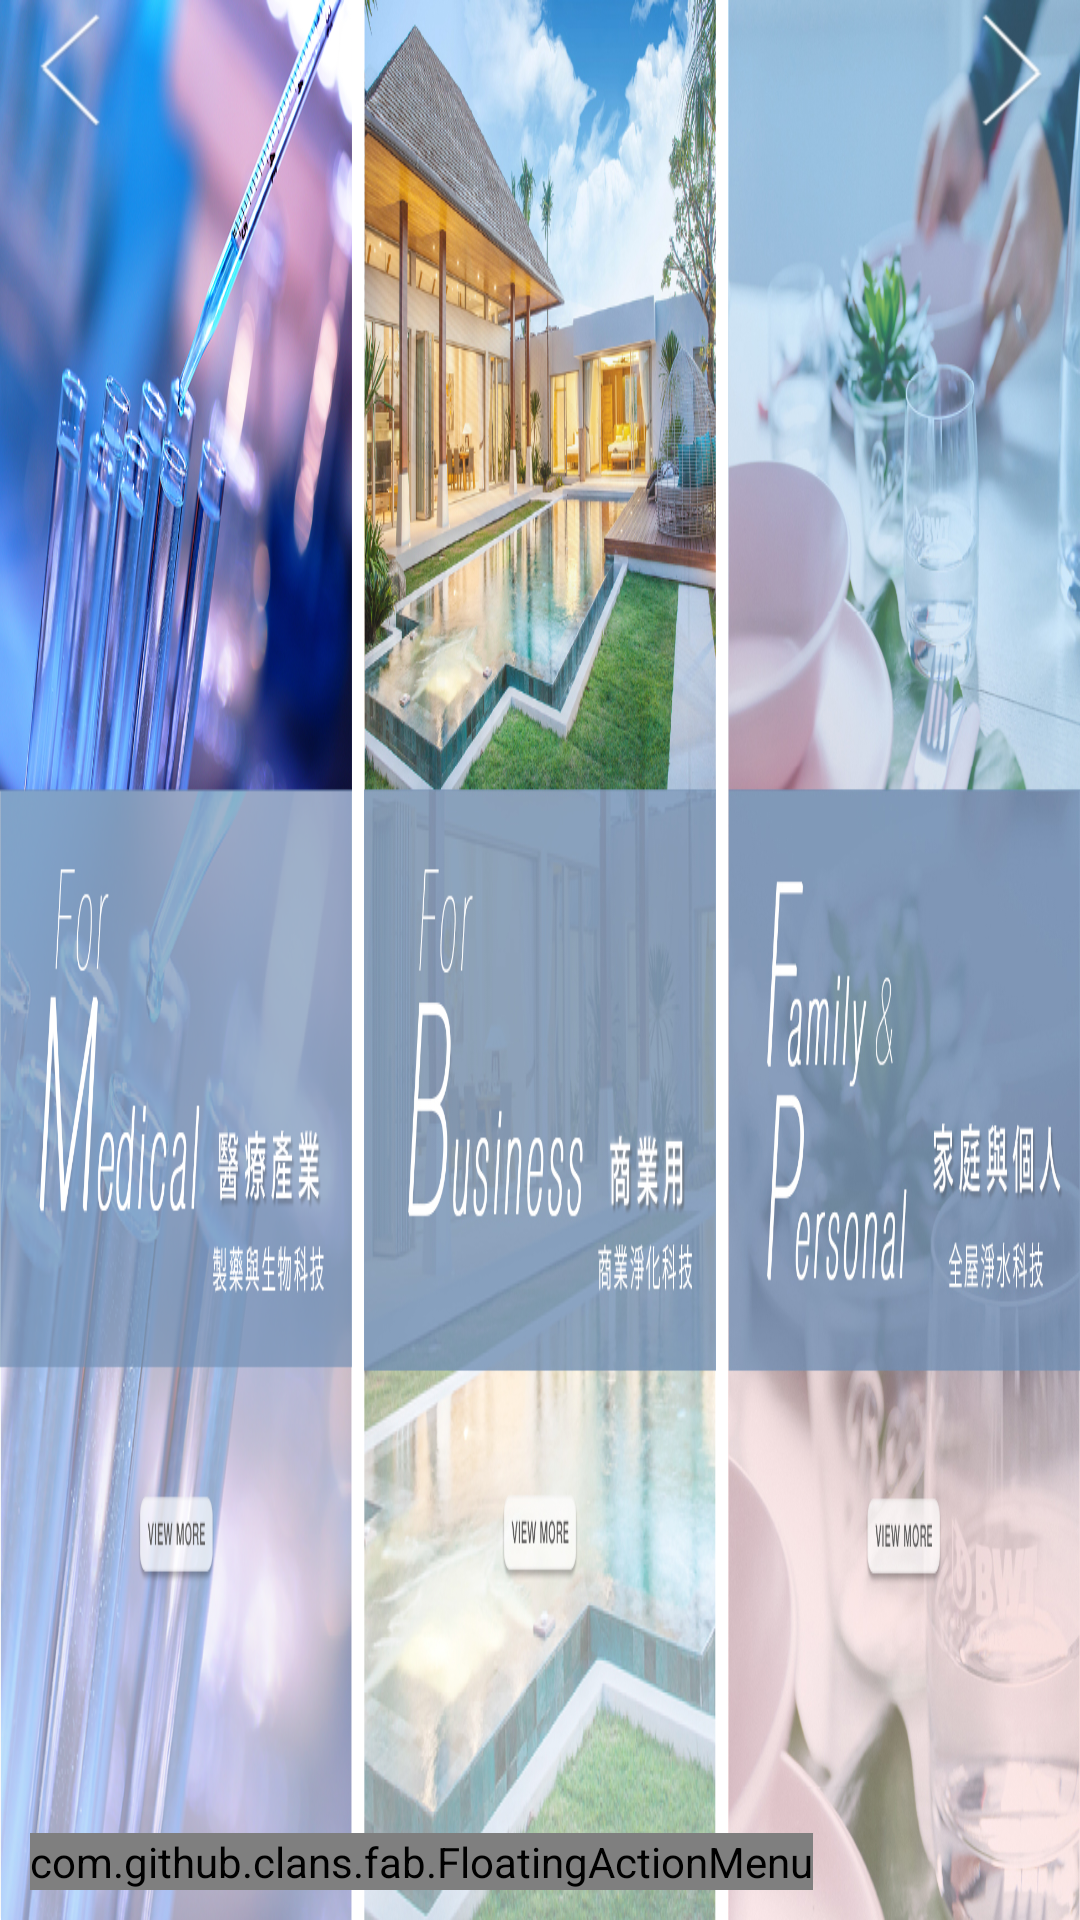

Icons on this 1080x1920 Android screen, each with the point to tap as (x,y):
left: (69,69)
right: (1011,69)
